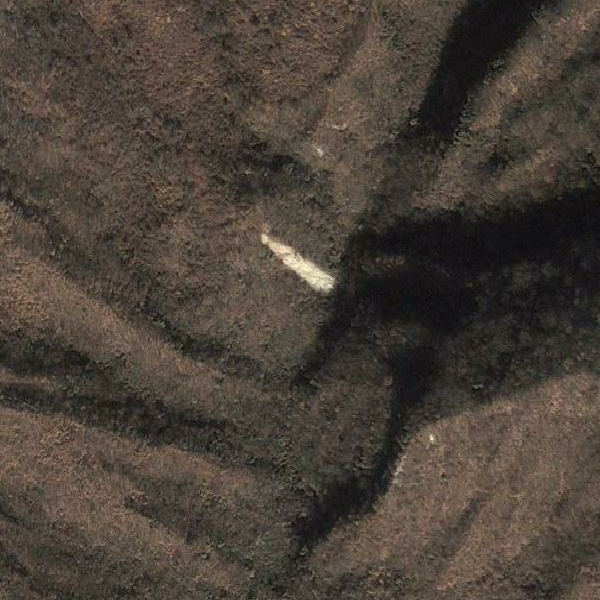slope: (258, 226, 342, 298)
